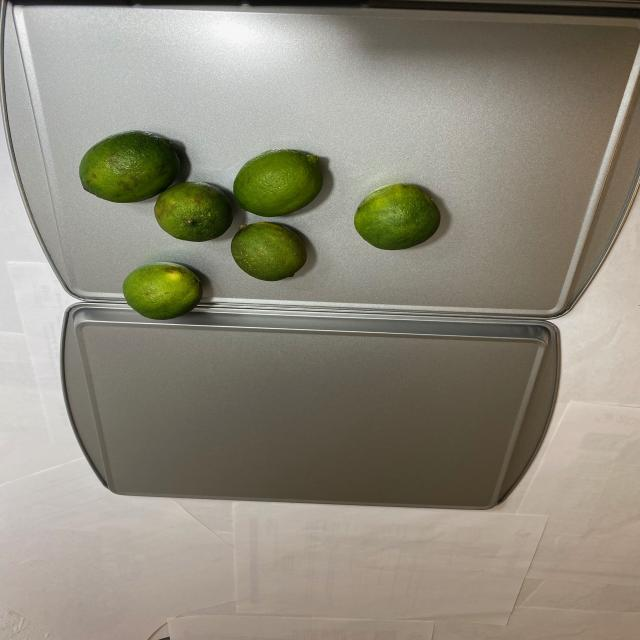lemon: (72, 126, 446, 320)
